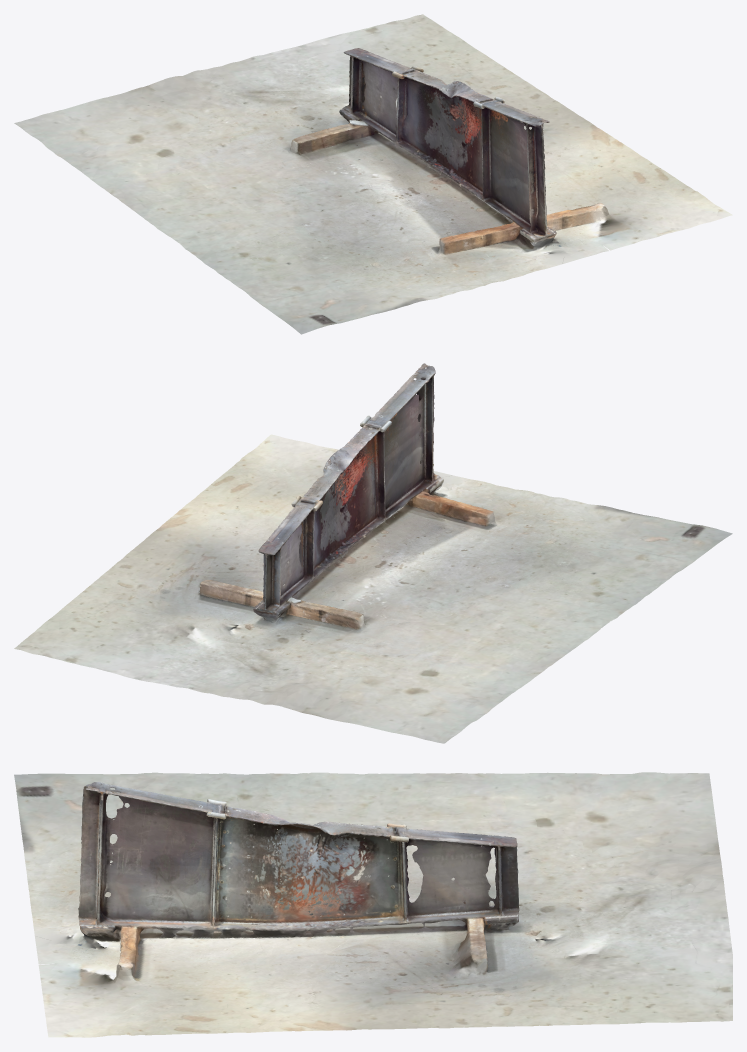
3 renders of one model, top to bottom at view 1: azimuth 30°, elevation 25°; view 2: azimuth 150°, elevation 25°; view 3: azimuth 270°, elevation 25°, orthographic. The views are drawn at different scales.
Size of the model in its own units: 2.14 by 0.5805 by 2.47.
1 material, 1 textured.
